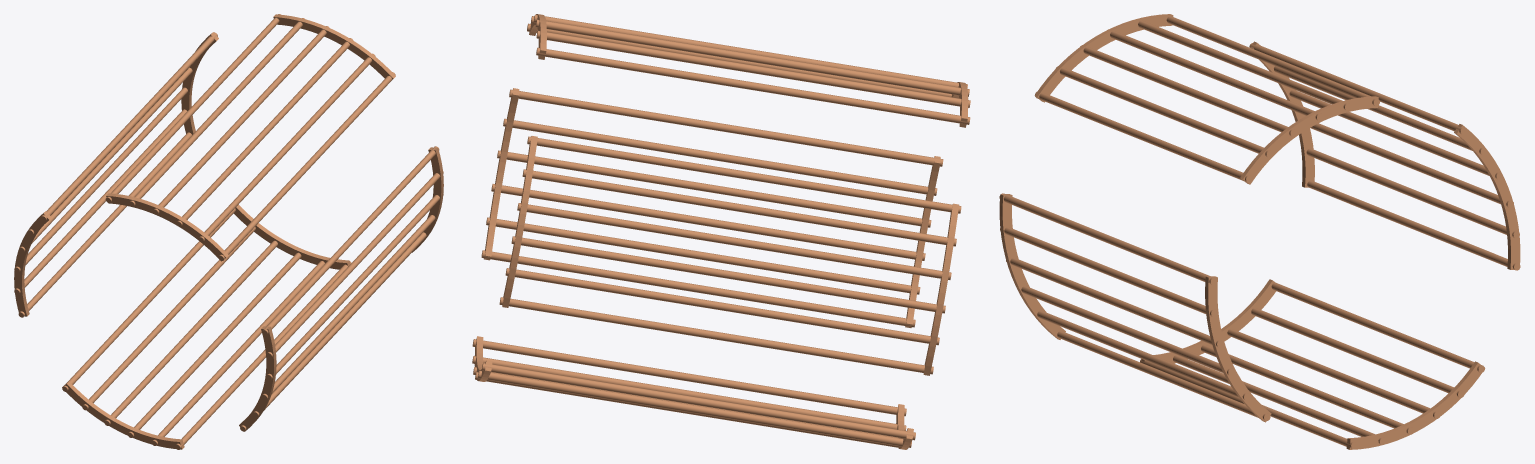
File: sync_damper.glb
3 renders of one model, left to right at view 1: azimuth 30°, elevation 25°; view 2: azimuth 150°, elevation 25°; view 3: azimuth 270°, elevation 25°, orthographic. The views are drawn at different scales.
Bounding box in the file's own units: 1.07 × 0.8361 × 1.02.
